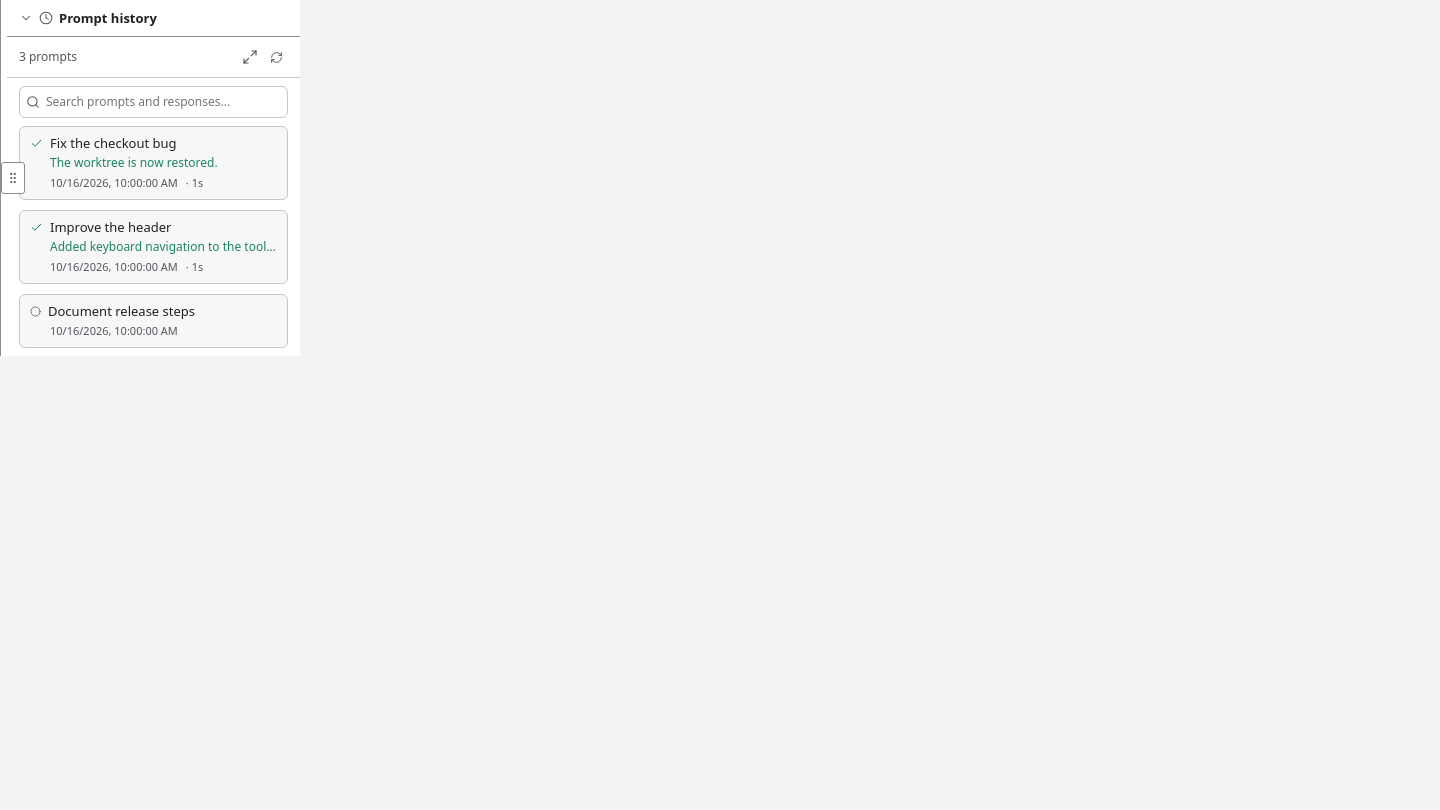
Scenario: prompt history search › closes the previous session’s response dialog when switching sessions
Expected: the text "Fix the checkout bug" is shown, top-left (50, 135), bottom-right (177, 151)
Click the button titled "Open full prompt and response": [154, 163] box top-left (19, 126), bottom-right (288, 200)
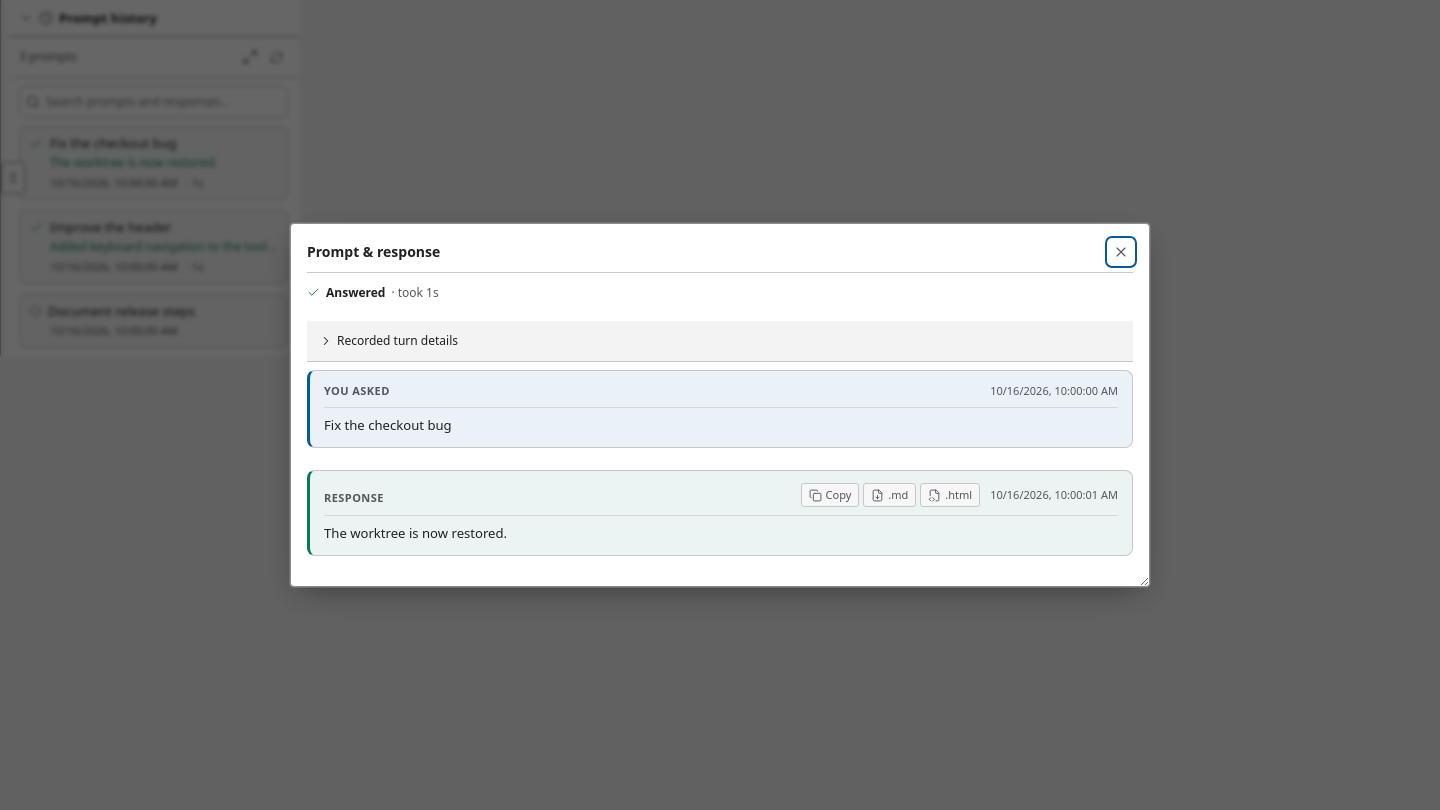
Now the dialog "Prompt & response" is shown, box top-left (290, 223), bottom-right (1150, 587)
